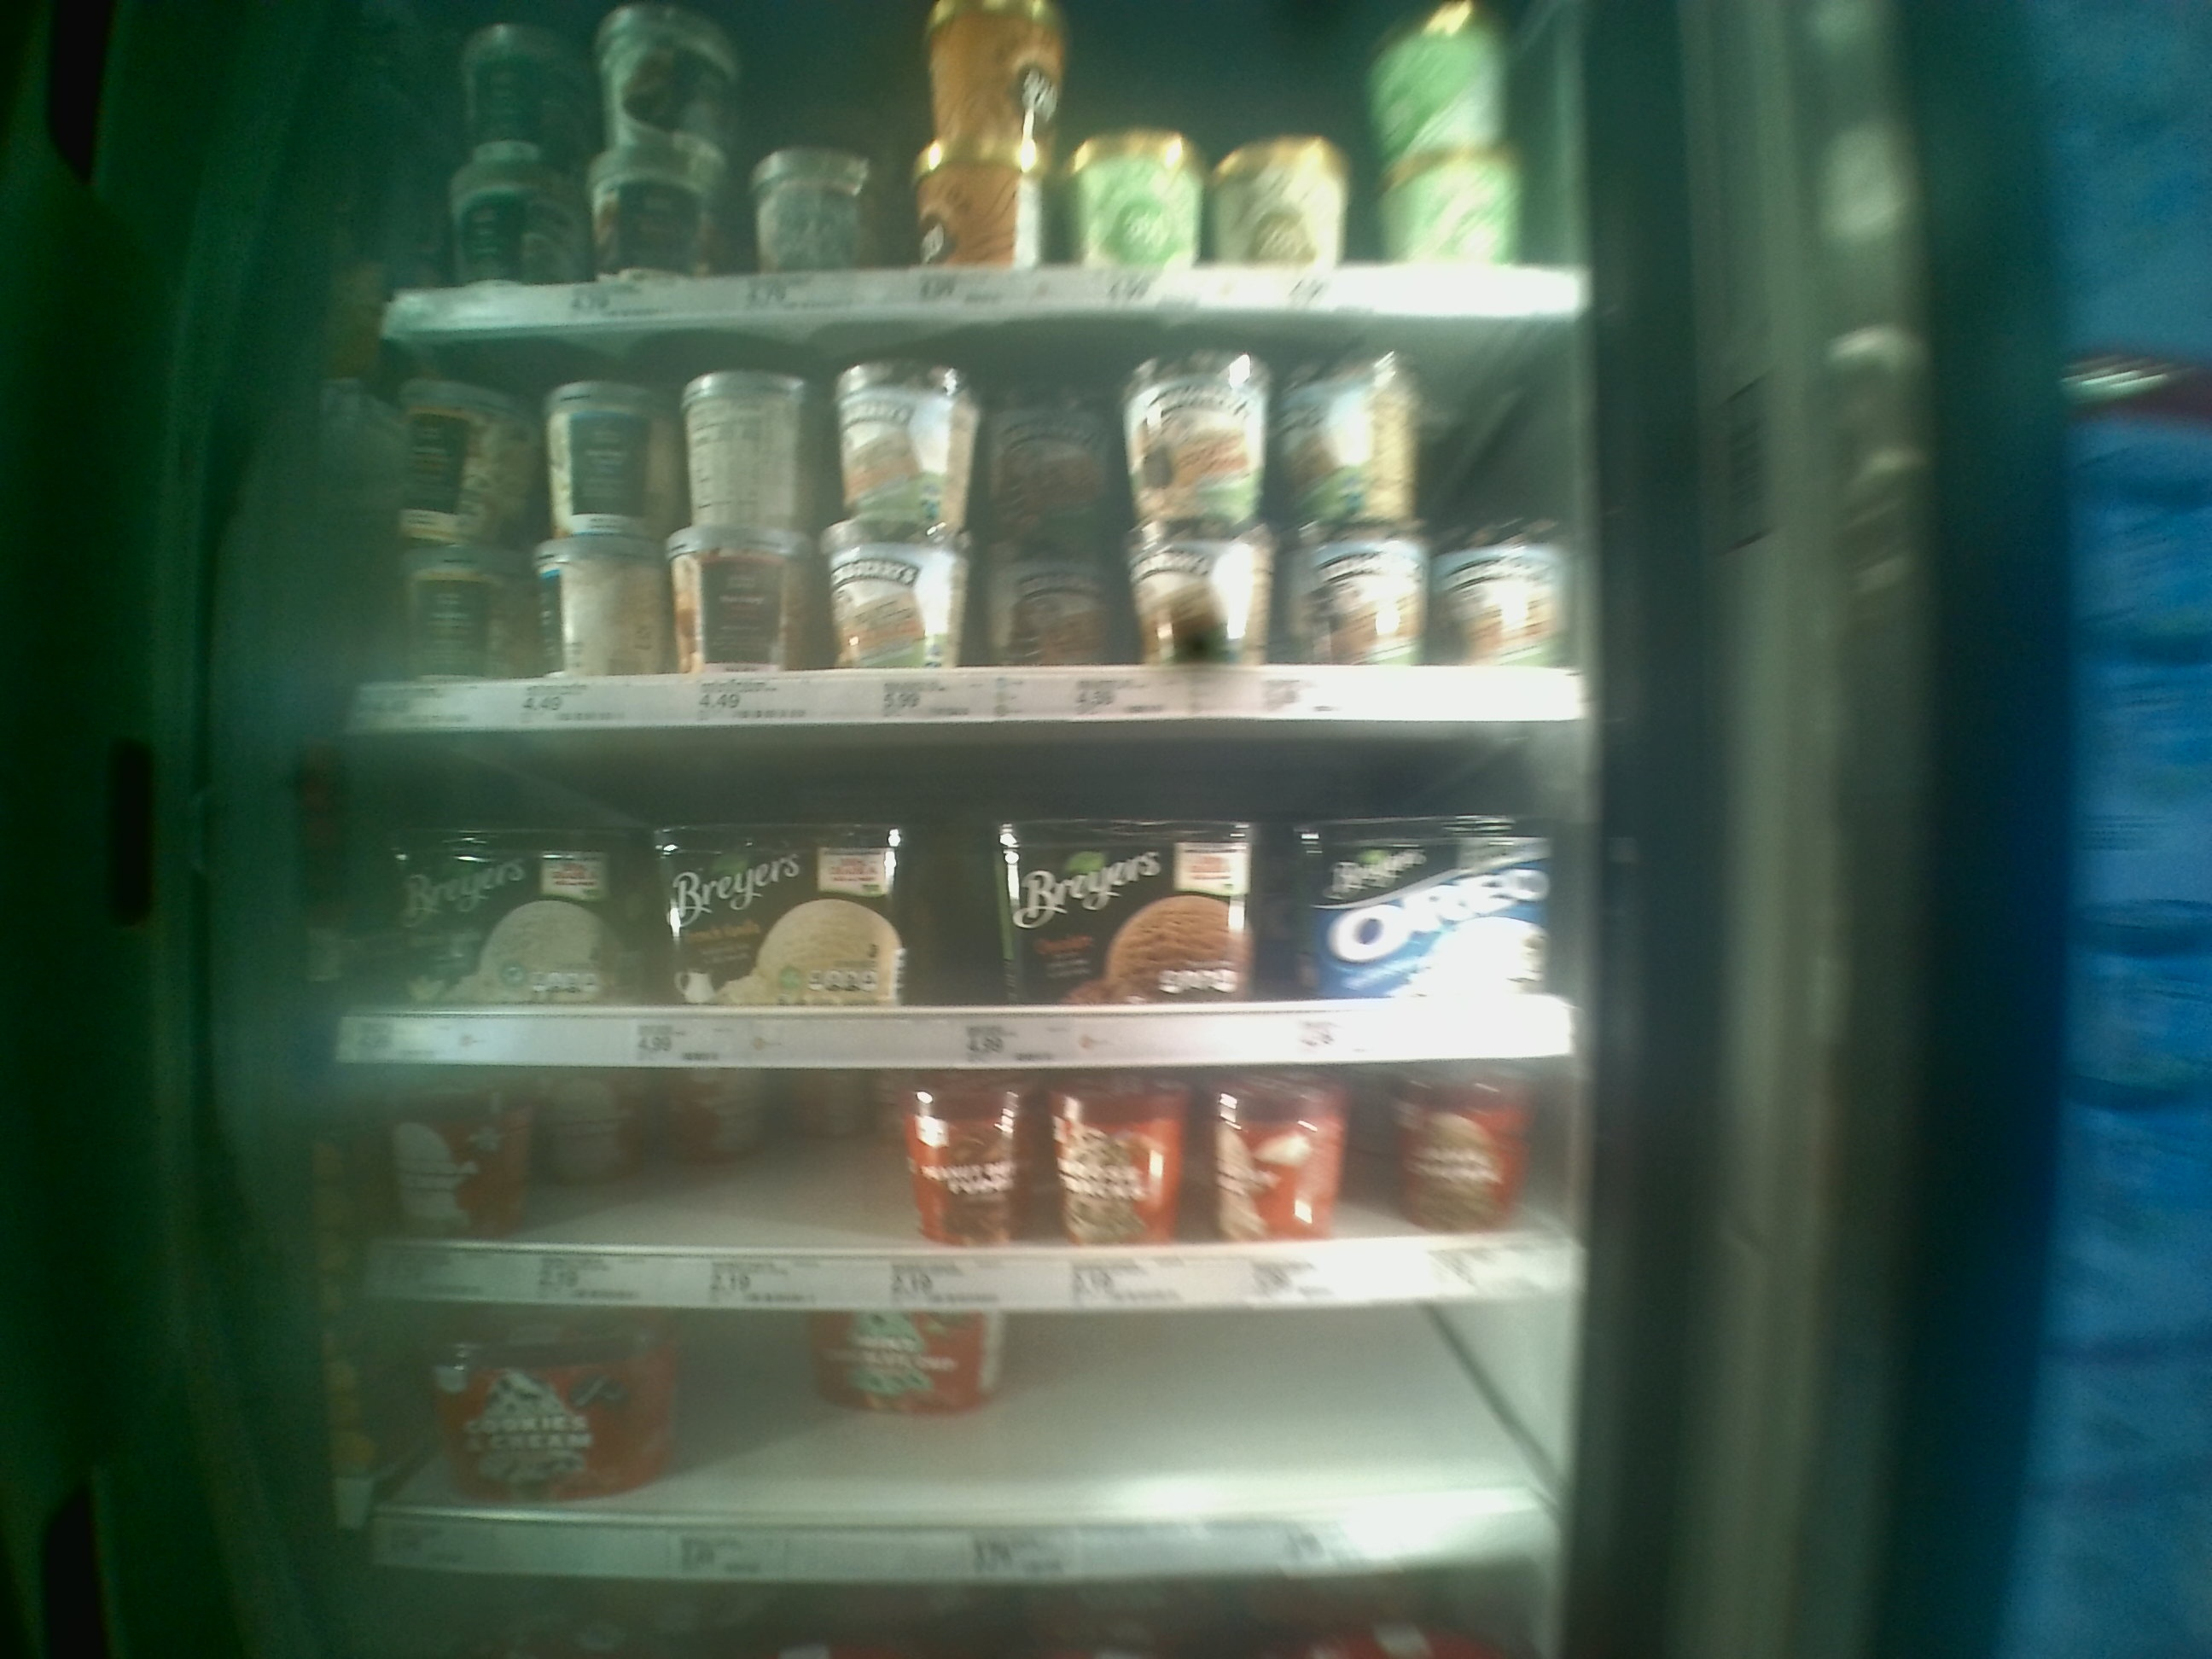ice-cream-shelf: (340, 322, 1599, 723), (324, 723, 1601, 1075), (331, 1297, 1569, 1595), (324, 1065, 1587, 1309)
